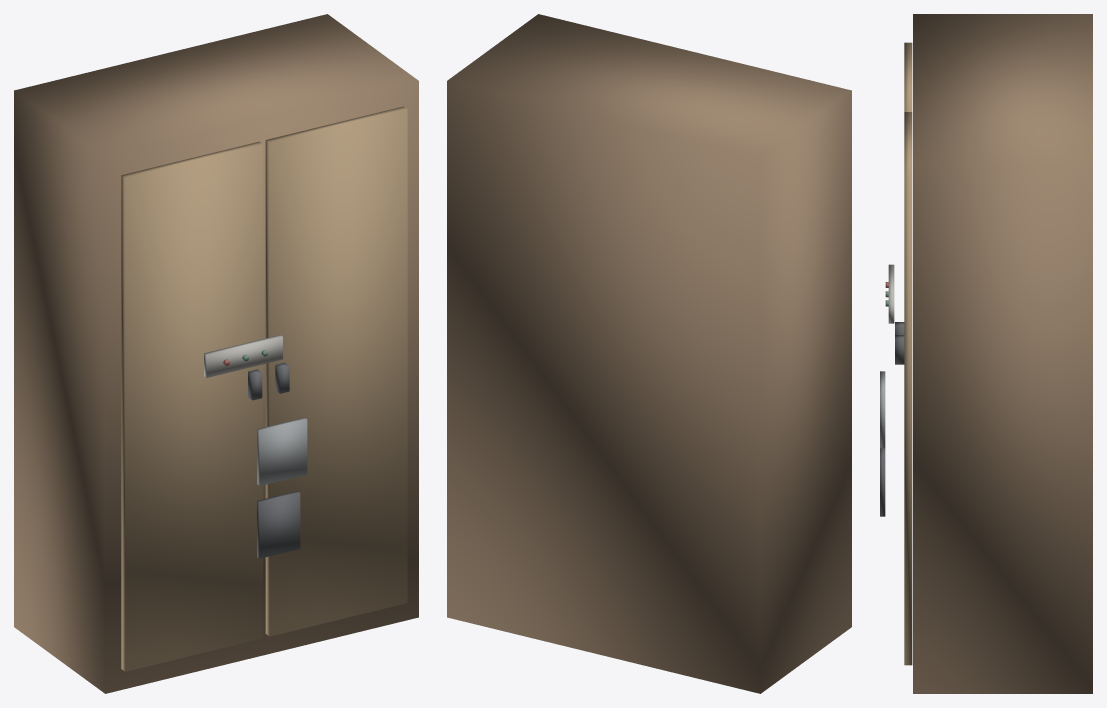
Rendered from wardrobe__weathered.glb.
3 views of the same model, side by side, from view 1: azimuth 30°, elevation 25°; view 2: azimuth 150°, elevation 25°; view 3: azimuth 270°, elevation 25° (orthographic).
Visible parts, largest first — view 1: world; view 2: world; view 3: world.
Part boxes in pixels (x1=…): world: x1=14, y1=14, x2=418, y2=693; world: x1=447, y1=14, x2=851, y2=693; world: x1=880, y1=14, x2=1092, y2=693.
Bounding box in the file's own units: 1.15 × 1.88 × 0.6862.
